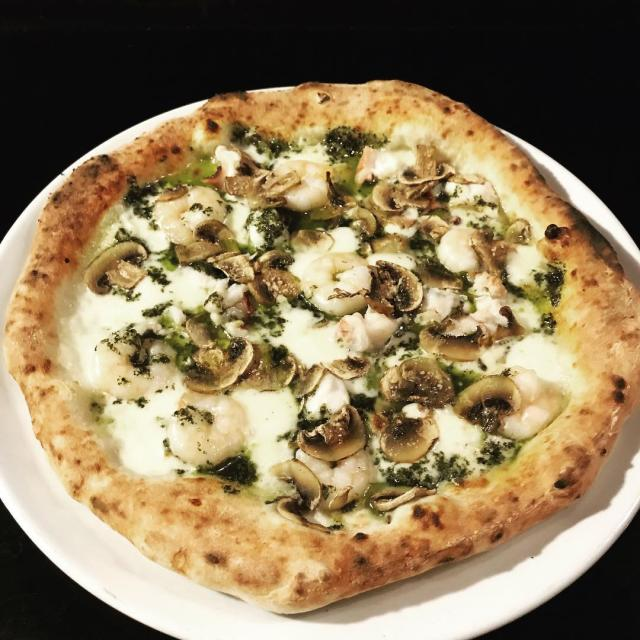mushrooms: (275, 457, 351, 528), (186, 321, 253, 392), (298, 396, 368, 461), (380, 142, 442, 214), (363, 257, 426, 323), (453, 368, 516, 433), (174, 219, 245, 275), (226, 152, 295, 208), (79, 238, 146, 293), (382, 356, 449, 410), (372, 404, 436, 456), (424, 313, 491, 361), (326, 178, 378, 232), (249, 248, 303, 298), (294, 350, 372, 384), (474, 218, 514, 281), (376, 481, 430, 519)
pizza: (0, 80, 640, 620)
